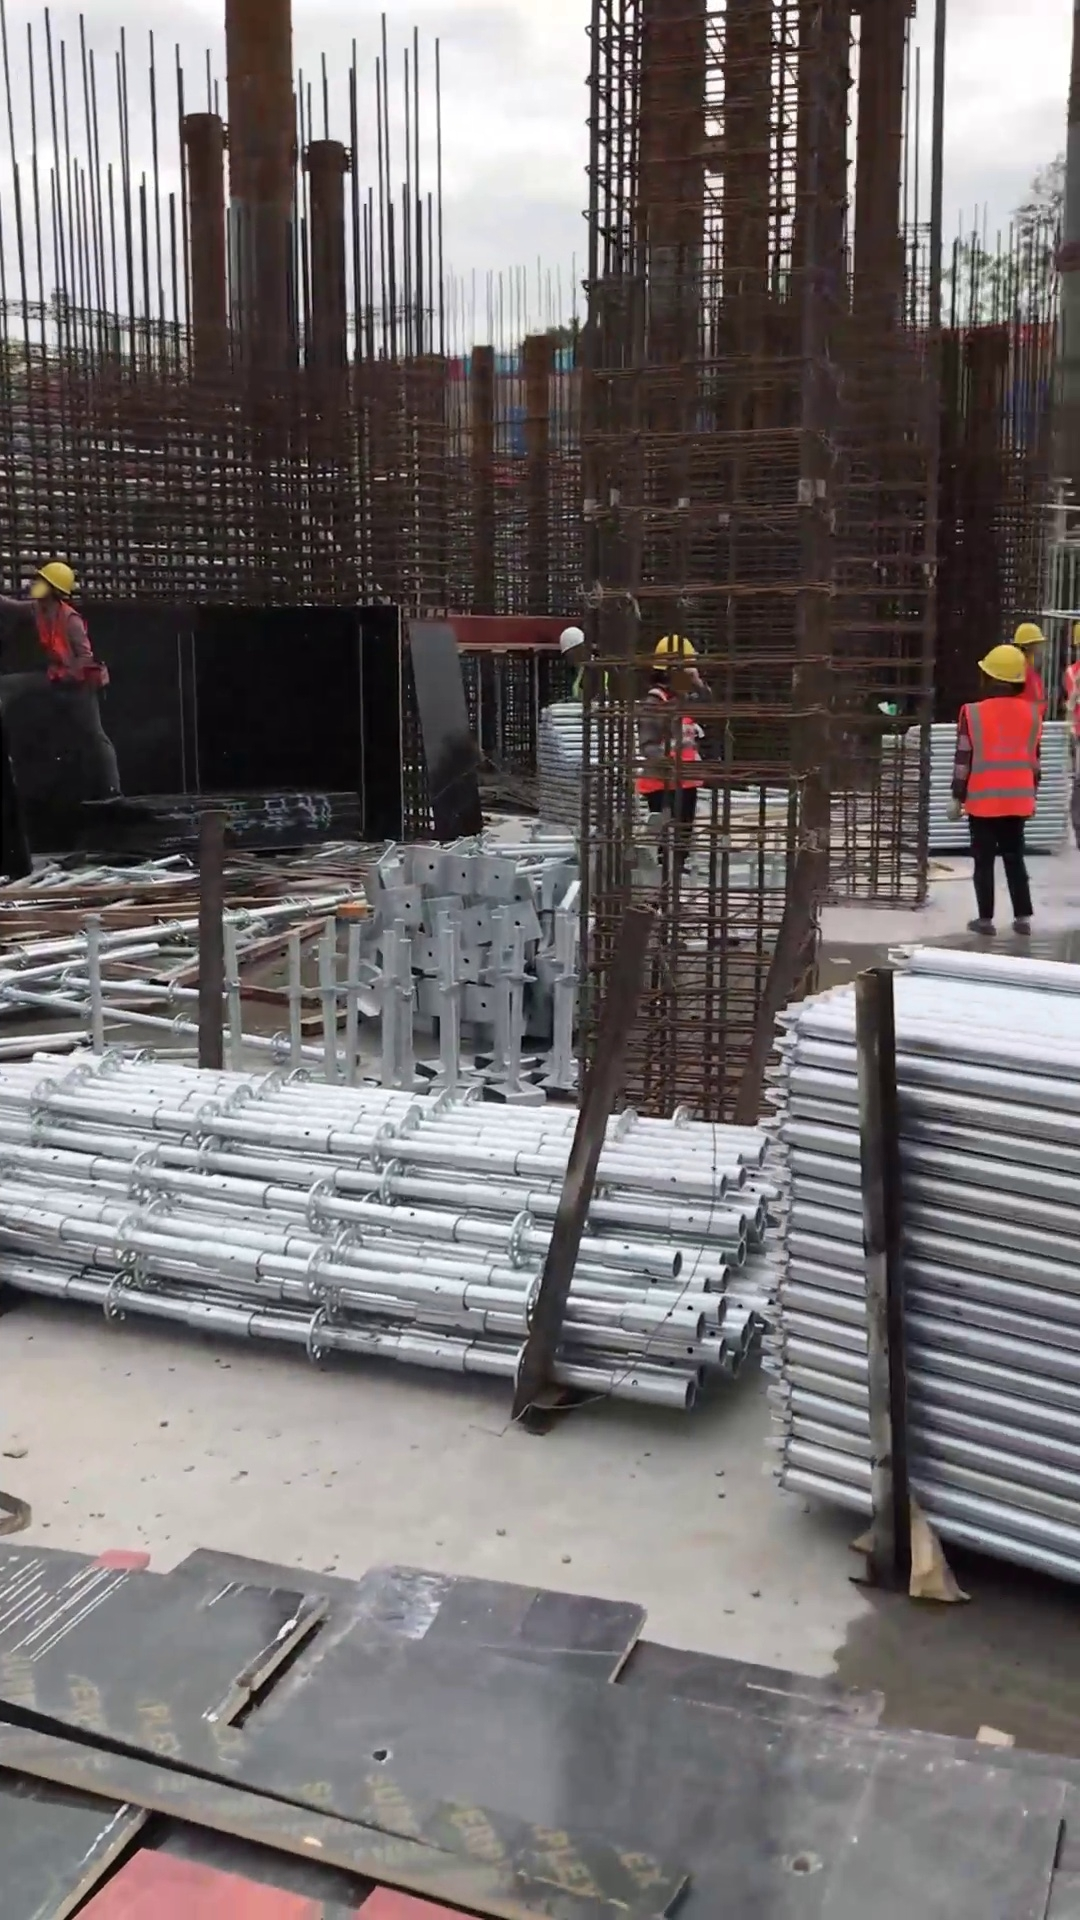board: (1, 1535, 1080, 1919)
helmet: (973, 643, 1030, 687), (652, 632, 701, 676), (30, 559, 78, 597), (554, 624, 588, 655), (1012, 620, 1044, 647)
person: (1, 558, 127, 808), (944, 642, 1039, 936), (630, 628, 714, 877)
scaffold: (1, 1042, 764, 1412), (765, 936, 1080, 1579), (880, 719, 1080, 852), (535, 697, 640, 828)
vest: (956, 692, 1044, 821), (636, 684, 708, 797), (30, 598, 99, 680), (1058, 656, 1080, 734), (1024, 659, 1045, 739)
